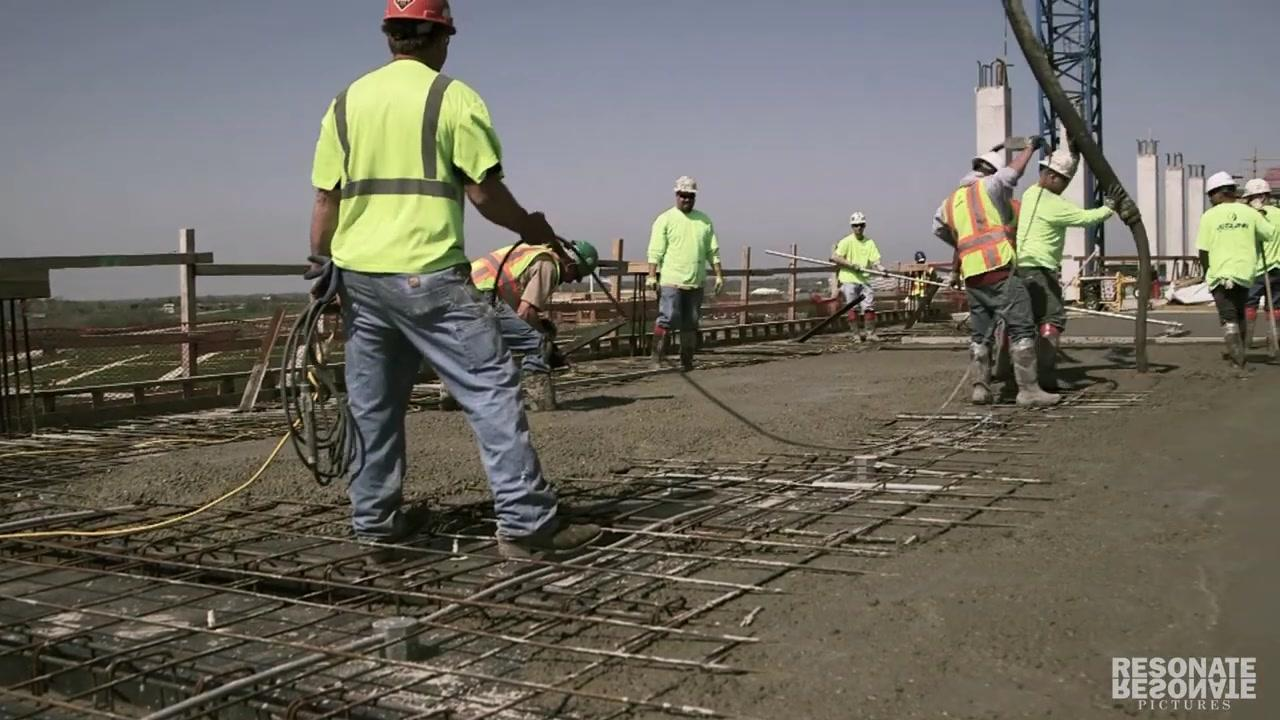vest: (313, 58, 504, 275), (941, 183, 1020, 277), (470, 242, 562, 294)
